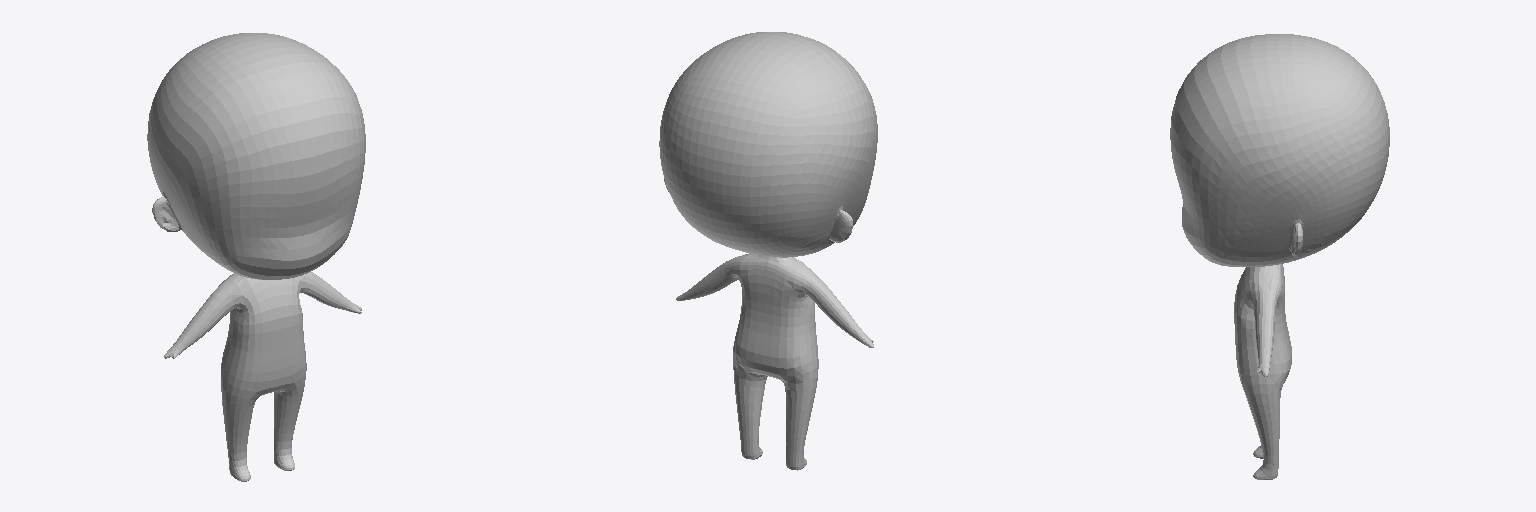
The model's file is pop base.obj.
The picture shows the model from 3 angles: view 1: azimuth 30°, elevation 25°; view 2: azimuth 150°, elevation 25°; view 3: azimuth 270°, elevation 25°; orthographic projection.
Visible parts, largest first — view 1: Group45578, Group35486, Group53723, Group35458, Group41367, Group49169, Group11447; view 2: Group45578, Group35486, Group53723, Group41367, Group35458, Group49169, Group11447; view 3: Group45578, Group53723, Group35486, Group11447, Group41367, Group35458.
Part boxes in pixels (x1,y1,x2,y2): Group45578: (147, 33, 365, 279); Group35486: (223, 305, 305, 372); Group53723: (221, 382, 304, 481); Group35458: (221, 353, 306, 399); Group41367: (224, 273, 301, 317); Group49169: (164, 279, 241, 358); Group11447: (299, 272, 361, 313); Group45578: (659, 32, 877, 257); Group35486: (735, 289, 817, 358); Group53723: (733, 364, 817, 470); Group41367: (735, 253, 809, 301); Group35458: (733, 341, 818, 383); Group49169: (802, 268, 873, 347); Group11447: (676, 254, 745, 300); Group45578: (1170, 34, 1389, 266); Group53723: (1245, 391, 1280, 479); Group35486: (1234, 290, 1291, 365); Group11447: (1250, 283, 1279, 376); Group41367: (1237, 264, 1284, 313); Group35458: (1236, 355, 1291, 393).
Size of the model in its own units: 2.51 by 5.1 by 2.41.